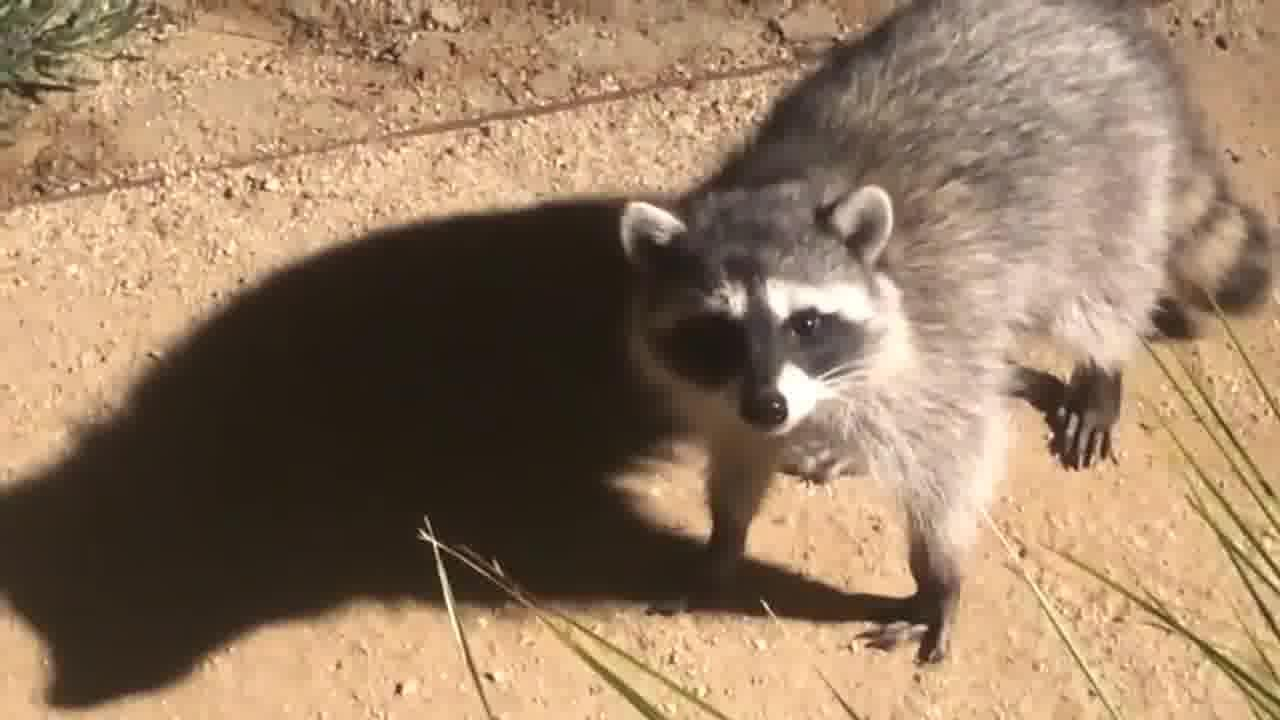raccoon: (597, 0, 1280, 675)
